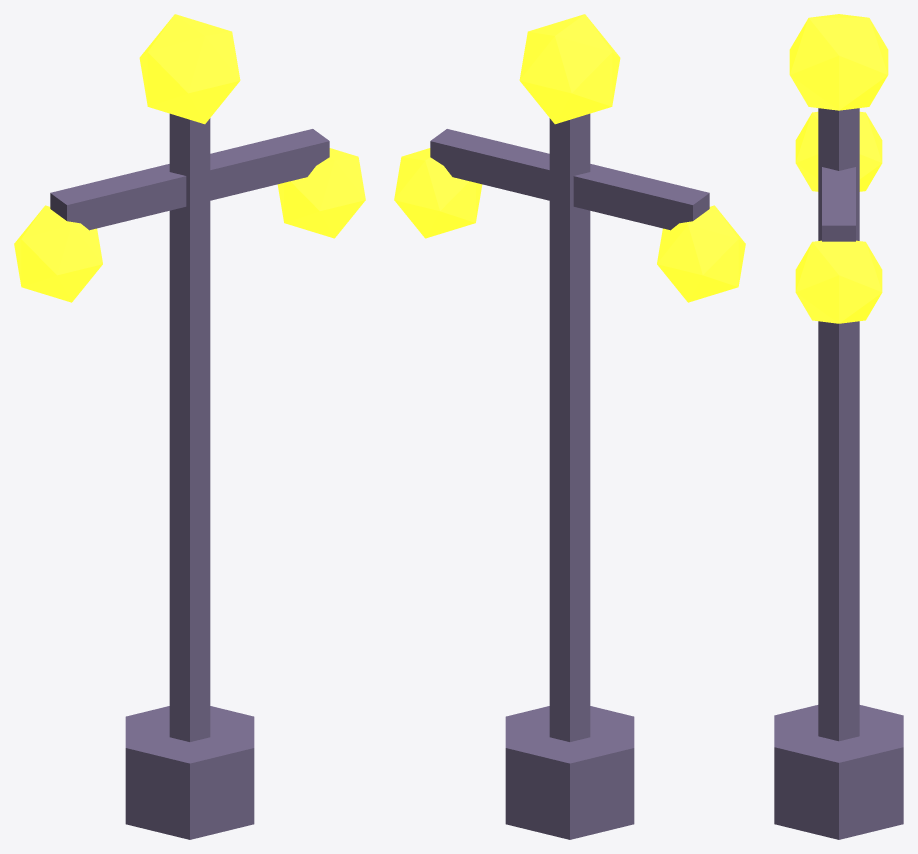
The model's file is lamp.glb.
3 renders of one model, left to right at view 1: azimuth 30°, elevation 25°; view 2: azimuth 150°, elevation 25°; view 3: azimuth 270°, elevation 25°, orthographic.
Visible parts, largest first — view 1: Post, Base, Bar, BulbT, BulbL, BulbR; view 2: Post, Base, Bar, BulbT, BulbL, BulbR; view 3: Post, Base, BulbT, BulbR, BulbL, Bar.
Part boxes in pixels (x1,y1,x2,y2): Post: [169, 113, 210, 741]; Base: [125, 706, 254, 839]; Bar: [50, 129, 329, 230]; BulbT: [139, 14, 240, 124]; BulbL: [14, 205, 102, 302]; BulbR: [277, 148, 365, 238]; Post: [549, 113, 590, 741]; Base: [505, 706, 634, 839]; Bar: [430, 129, 709, 230]; BulbT: [519, 14, 620, 124]; BulbL: [657, 205, 745, 302]; BulbR: [394, 148, 482, 238]; Post: [818, 108, 859, 741]; Base: [774, 705, 903, 839]; BulbT: [789, 14, 888, 110]; BulbR: [795, 240, 882, 323]; BulbL: [795, 111, 882, 191]; Bar: [822, 167, 855, 241].
Size of the model in its own units: 1.16 by 2.56 by 0.3811.
